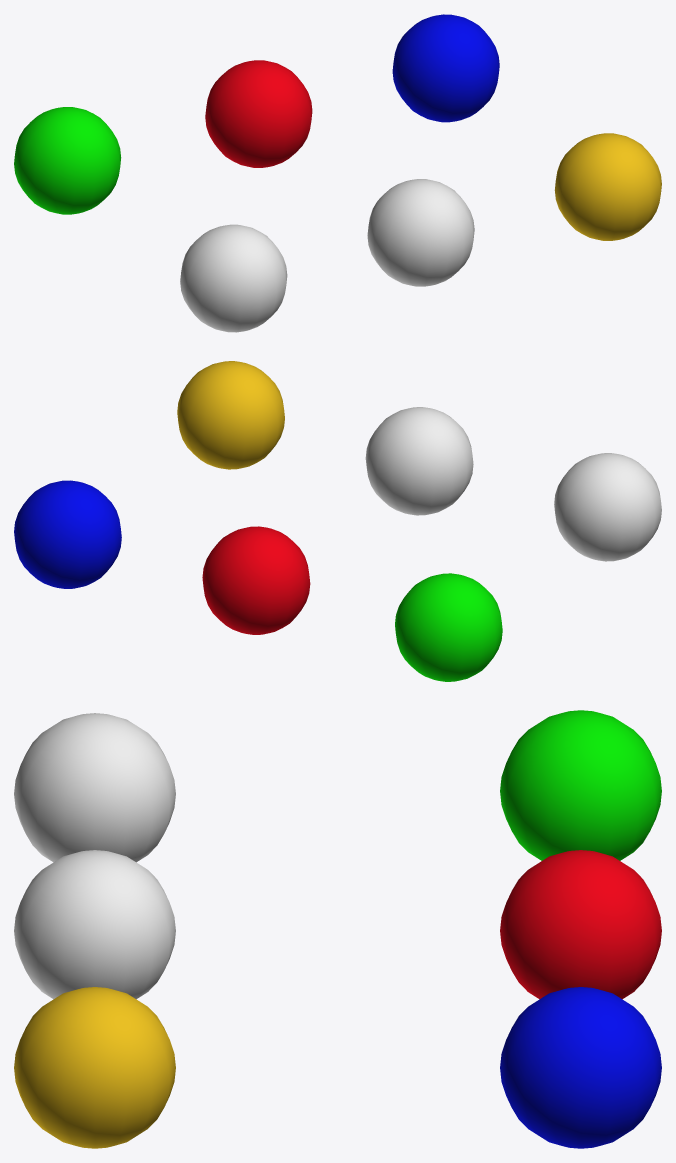
File: pbr.glb
The picture shows the model from 3 angles, top to bottom: view 1: azimuth 30°, elevation 25°; view 2: azimuth 150°, elevation 25°; view 3: azimuth 270°, elevation 25°; orthographic projection. The views are drawn at different scales.
Visible parts, largest first — view 1: Sphere.005, Sphere, Sphere.002, Sphere.004, Sphere.003, Sphere.001; view 2: Sphere.004, Sphere, Sphere.001, Sphere.003, Sphere.005, Sphere.002; view 3: Sphere, Sphere.005, Sphere.004, Sphere.001, Sphere.003, Sphere.002.
Part boxes in pixels (left/top/right/bottom): Sphere.005: left=392, top=14, right=499, bottom=122; Sphere: left=554, top=133, right=661, bottom=240; Sphere.002: left=180, top=224, right=287, bottom=332; Sphere.004: left=14, top=107, right=121, bottom=214; Sphere.003: left=205, top=60, right=312, bottom=167; Sphere.001: left=367, top=179, right=474, bottom=286; Sphere.004: left=395, top=573, right=502, bottom=681; Sphere: left=177, top=361, right=284, bottom=469; Sphere.001: left=365, top=407, right=473, bottom=515; Sphere.003: left=202, top=526, right=310, bottom=634; Sphere.005: left=14, top=480, right=121, bottom=588; Sphere.002: left=554, top=453, right=661, bottom=561; Sphere: left=14, top=987, right=175, bottom=1148; Sphere.005: left=500, top=987, right=661, bottom=1148; Sphere.004: left=500, top=710, right=661, bottom=860; Sphere.001: left=14, top=850, right=175, bottom=999; Sphere.003: left=500, top=850, right=661, bottom=999; Sphere.002: left=14, top=713, right=175, bottom=862.
Bounding box in the file's own units: 5.04 × 1 × 4.
